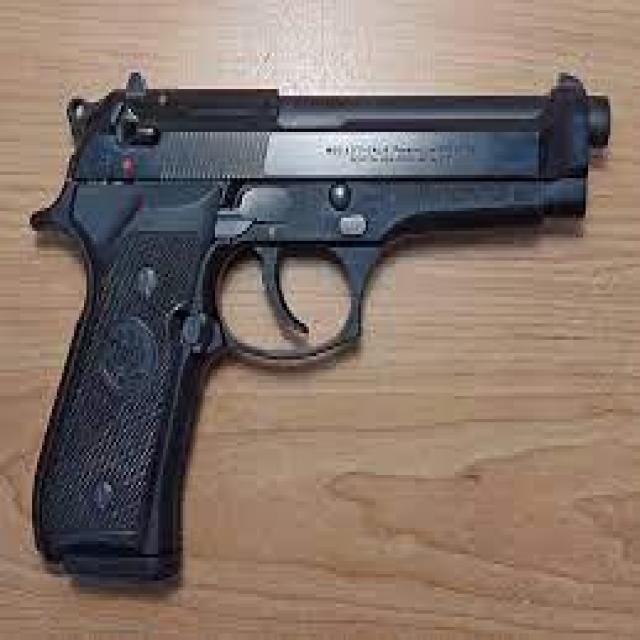Gun: (54, 28, 636, 601)
